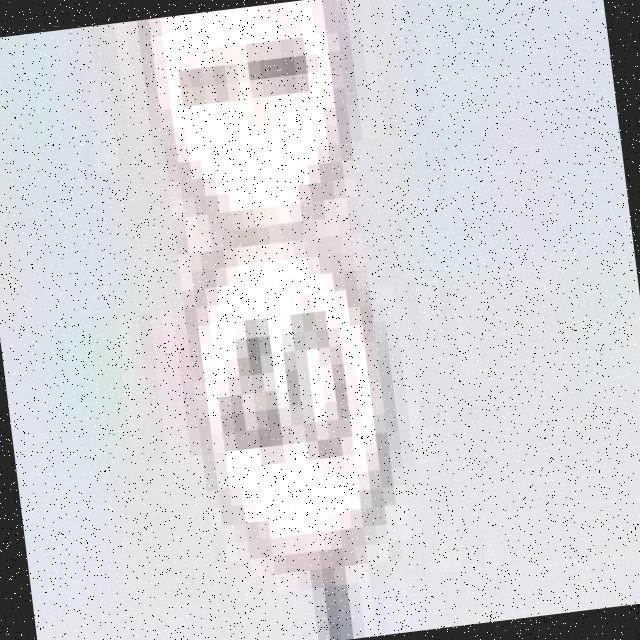Ograniczenie predkosci do 40: (163, 212, 414, 583)
